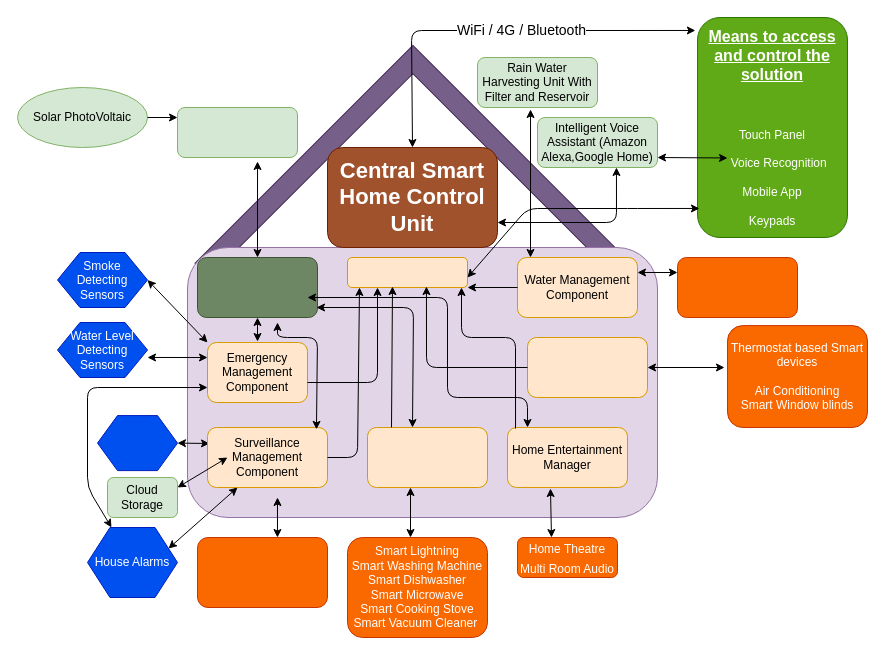
The diagram is 885 pixels wide and 655 high, and some of its shapes have lost their labels. The centre of each missing label's shape, as x and y in pixels:
External Energy Production Unit: [237,132]
HouseHold appliance Manager: [427,457]
Irrigation Gardening CarWash Swimming Pool: [737,287]
Main Gate Access Control Door Access Control Window Access Control: [262,572]
Notification Manager: [407,272]
Smart Energy Management Component: [257,287]
Surveillance Cameras: [137,443]
Temperature Control Component: [587,367]
